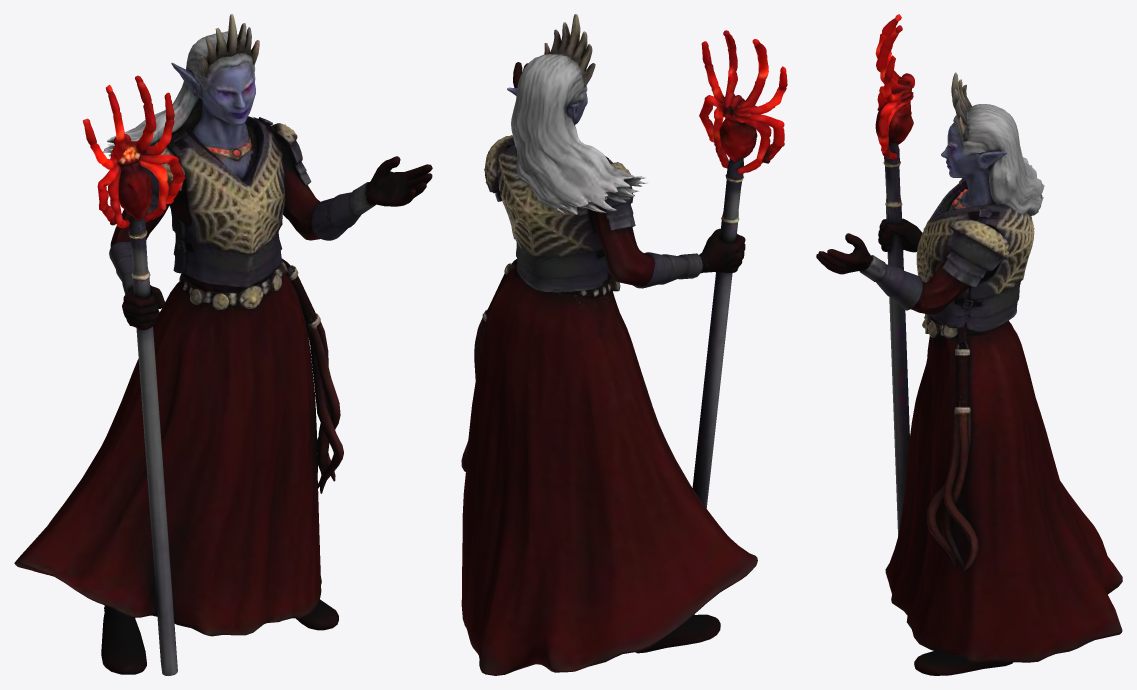
File: MZ4250 - Drow Matron Mother.glb
3 renders of one model, left to right at view 1: azimuth 30°, elevation 25°; view 2: azimuth 150°, elevation 25°; view 3: azimuth 270°, elevation 25°, orthographic. The views are drawn at different scales.
Parts seen in each view (by area): view 1: Spider Small.001; view 2: Spider Small.001; view 3: Spider Small.001.
Boxes of the visible parts, box(x1,y1,x2,y2) form: Spider Small.001: box(14, 14, 432, 675); Spider Small.001: box(461, 14, 787, 675); Spider Small.001: box(816, 14, 1122, 675).
Size of the model in its own units: 57.12 by 103 by 50.66.
1 material, 1 textured.
